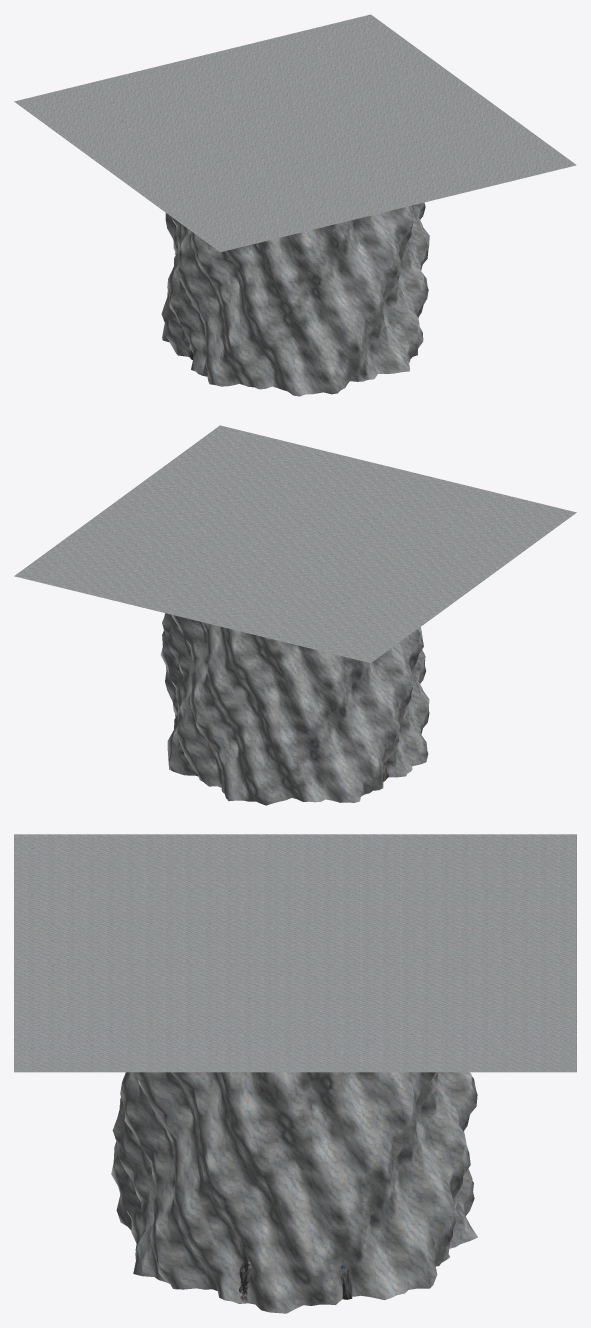
Rendered from room.glb.
The picture shows the model from 3 angles, top to bottom: view 1: azimuth 30°, elevation 25°; view 2: azimuth 150°, elevation 25°; view 3: azimuth 270°, elevation 25°; orthographic projection. The views are drawn at different scales.
Parts seen in each view (by area): view 1: LEDGE-2; view 2: LEDGE-2; view 3: LEDGE-2.
Boxes of the visible parts, bbox=[...] form: LEDGE-2: bbox=[14, 14, 576, 396]; LEDGE-2: bbox=[14, 425, 576, 805]; LEDGE-2: bbox=[14, 834, 576, 1313].
Bounding box in the file's own units: 95.2 × 53 × 95.2.
Materials: 1 (1 with a texture image).
